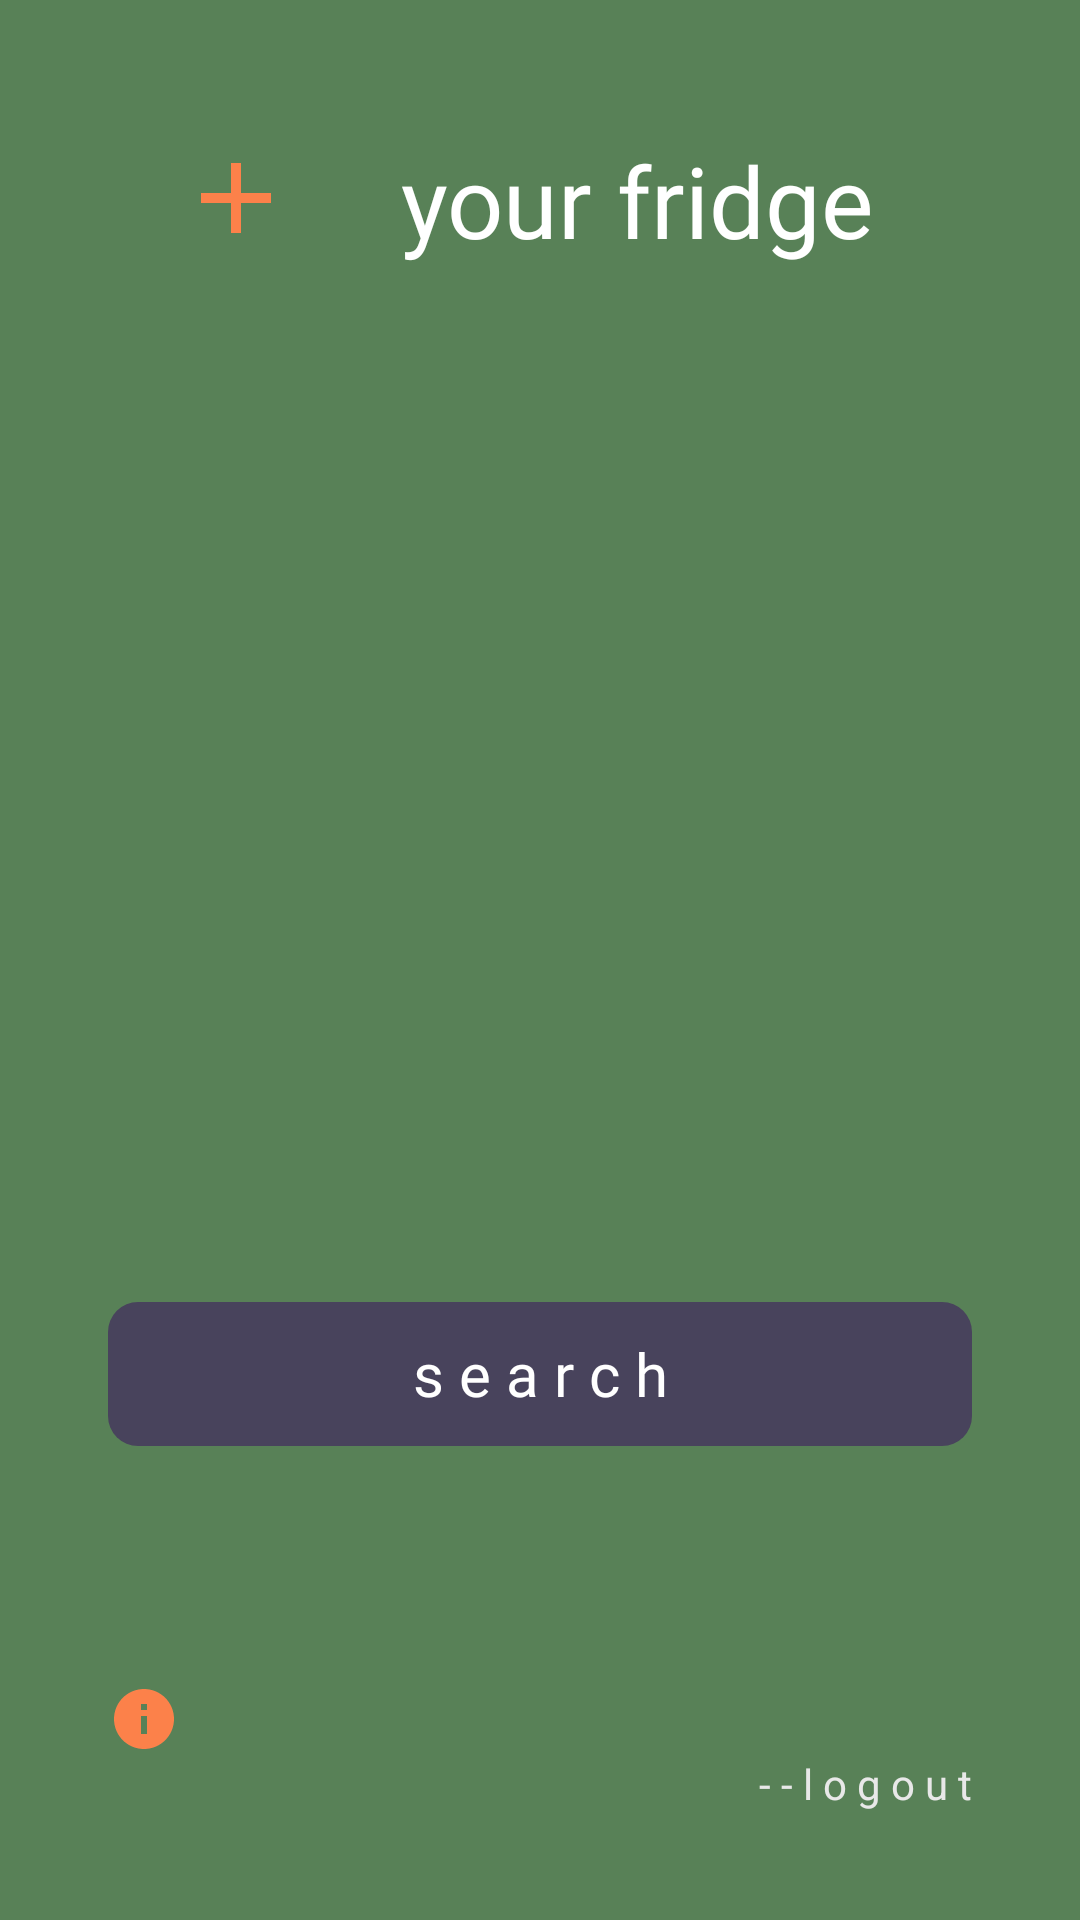

Where icons sit on this 1080x1920 app screen, as Rect(x1, y1, x2, y2):
add: Rect(201, 163, 271, 233)
info: Rect(114, 1689, 174, 1749)
